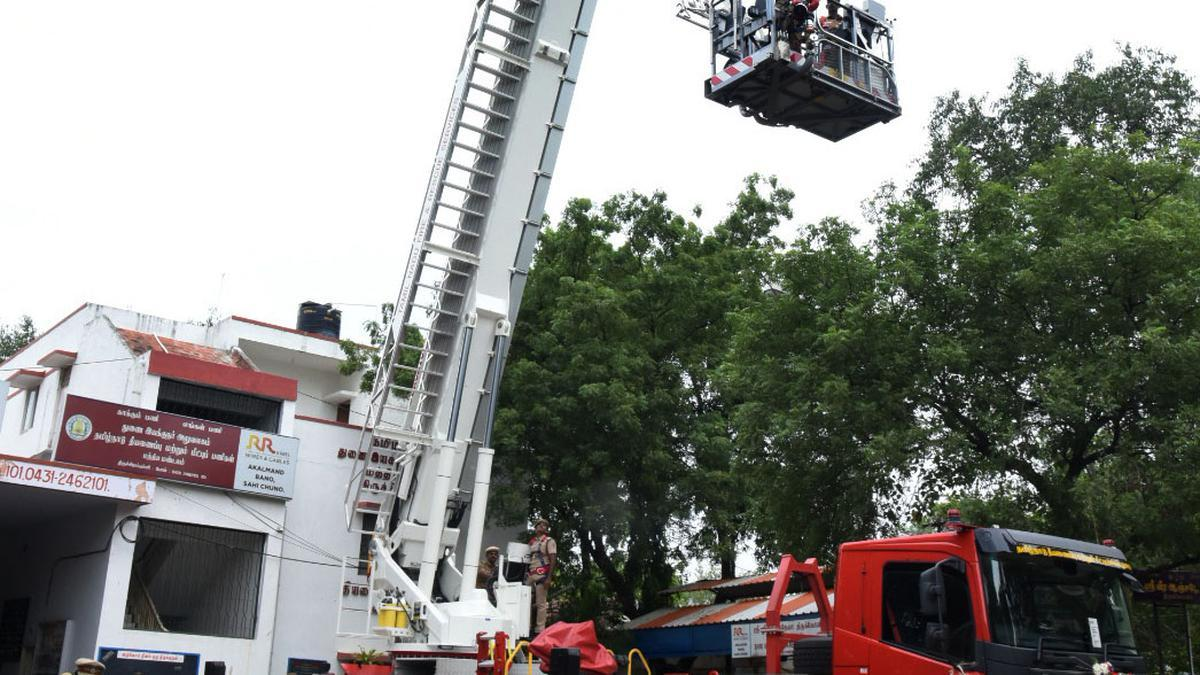Fire-engine: (782, 510, 1132, 675)
